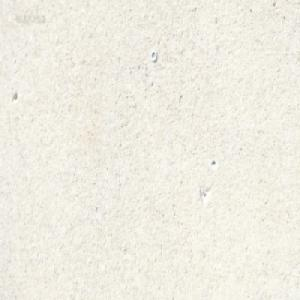Washer: (150, 49, 157, 61)
